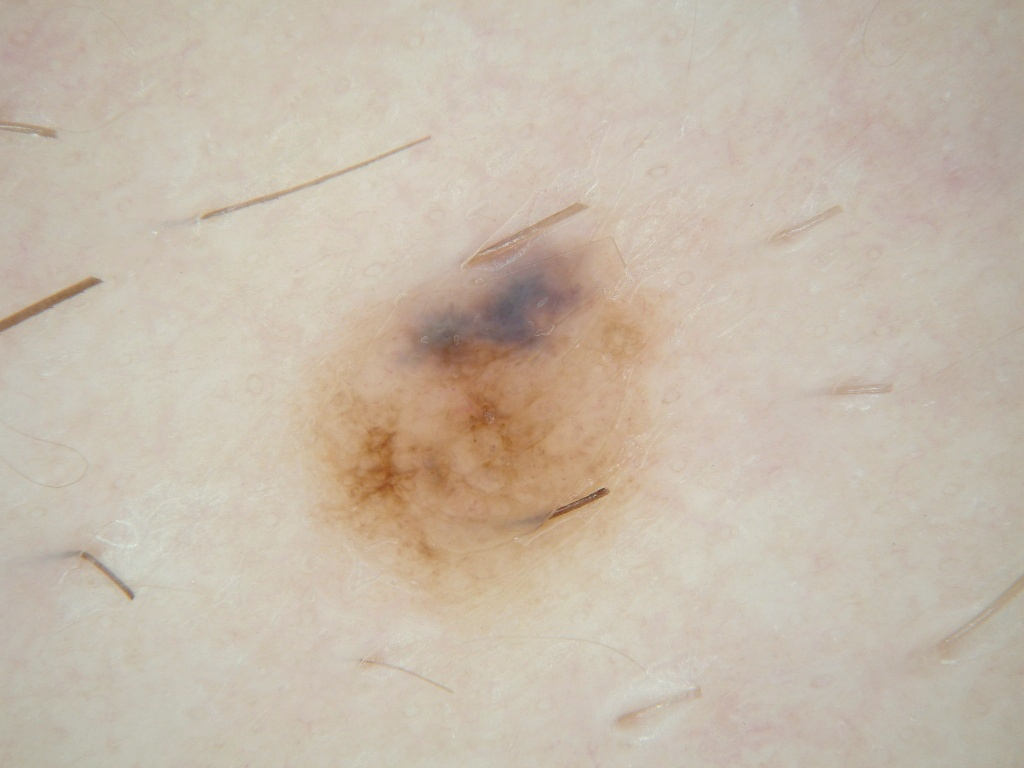Detected Lesion: (293, 228, 659, 598)
